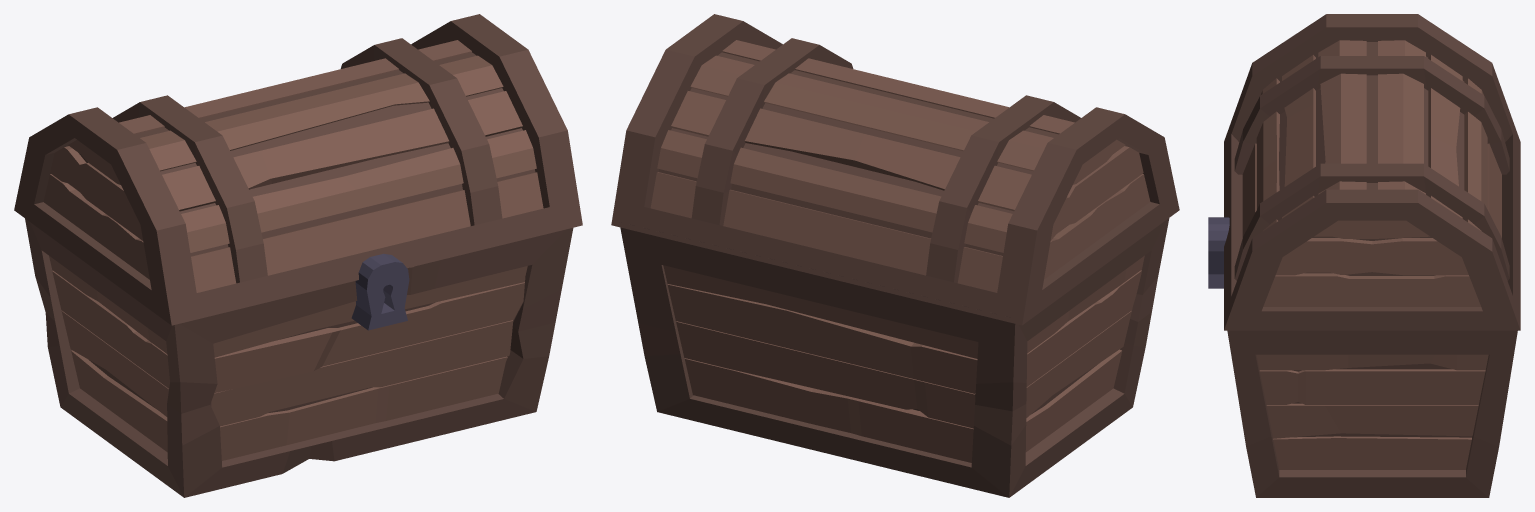
File: Dungeon_Chest.glb
3 renders of one model, left to right at view 1: azimuth 30°, elevation 25°; view 2: azimuth 150°, elevation 25°; view 3: azimuth 270°, elevation 25°, orthographic. The views are drawn at different scales.
Visible parts, largest first — view 1: Chest_Base; view 2: Chest_Base; view 3: Chest_Base.
Boxes of the visible parts, bbox=[...] form: Chest_Base: bbox=[14, 14, 582, 497]; Chest_Base: bbox=[611, 14, 1179, 497]; Chest_Base: bbox=[1208, 14, 1520, 497].
Size of the model in its own units: 1.18 by 0.8986 by 0.8238.
